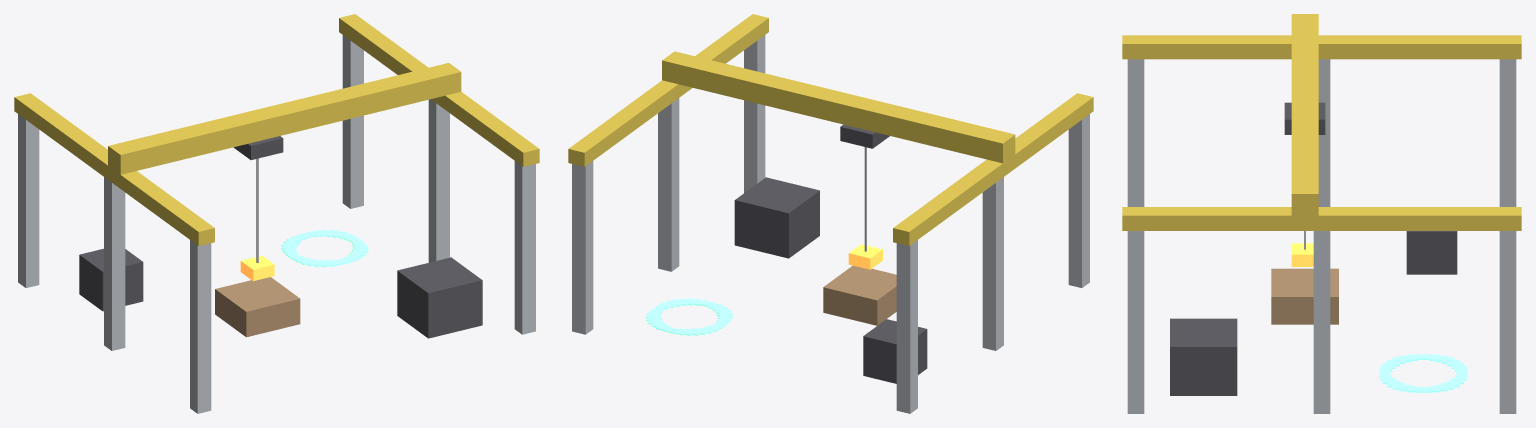
The model's file is wing-robot-overhead-crane.glb.
3 renders of one model, left to right at view 1: azimuth 30°, elevation 25°; view 2: azimuth 150°, elevation 25°; view 3: azimuth 270°, elevation 25°, orthographic. The views are drawn at different scales.
Visible parts, largest first — view 1: Robot · overhead bridge crane; view 2: Robot · overhead bridge crane; view 3: Robot · overhead bridge crane.
Part boxes in pixels (bbox=[...]): Robot · overhead bridge crane: bbox=[14, 14, 539, 413]; Robot · overhead bridge crane: bbox=[568, 14, 1093, 413]; Robot · overhead bridge crane: bbox=[1122, 14, 1521, 413].
Bounding box in the file's own units: 12.6 × 7.2 × 11.8.
